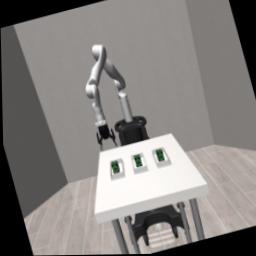cube1: (110, 160, 120, 174)
cube2: (133, 154, 142, 168)
cube3: (155, 148, 165, 163)
